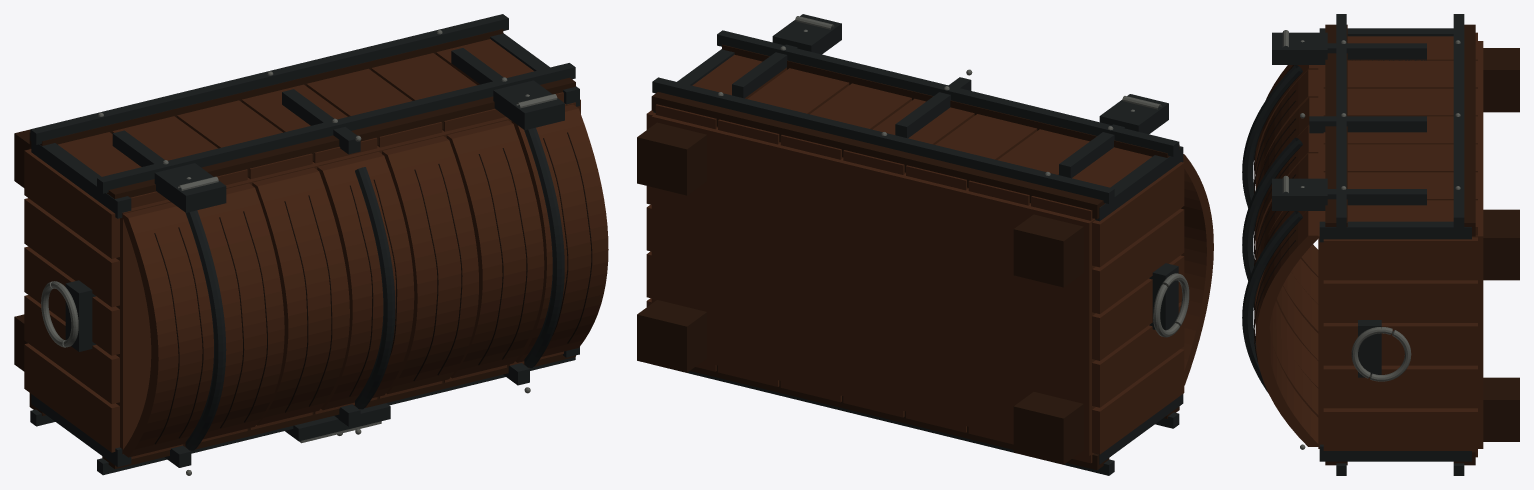
File: SM_GateWardenChest_1348_v1.obj
3 renders of one model, left to right at view 1: azimuth 30°, elevation 25°; view 2: azimuth 150°, elevation 25°; view 3: azimuth 270°, elevation 25°, orthographic. The views are drawn at different scales.
Parts seen in each view (by area): view 1: Carved_Arched_Oak_Lid_4, Carved_Arched_Oak_Lid_5, Carved_Arched_Oak_Lid_2, Carved_Arched_Oak_Lid_0, Carved_Arched_Oak_Lid_1, Carved_Arched_Oak_Lid_3, Carved_Arched_Oak_Lid_6, Black_Iron_Base_Band_1_0.11, Black_Iron_Base_Band_1_0.322, Dovetailed_Oak_Base, Iron_Arch_Reinforcement_0, Side_Oak_Stave_-1_0 (+23 smaller); view 2: Dovetailed_Oak_Base, Black_Iron_Base_Band_1_0.11, Black_Iron_Base_Band_1_0.322, Lower_Frame_1_0.1, Carved_Arched_Oak_Lid_0, Side_Oak_Stave_-1_0, Side_Oak_Stave_-1_3, Side_Oak_Stave_-1_4, Corner_Leg_-1_-1, Corner_Leg_-1_1, Corner_Leg_1_1, Corner_Leg_1_-1 (+19 smaller); view 3: Side_Oak_Stave_1_0, Side_Oak_Stave_1_3, Side_Oak_Stave_1_4, Side_Oak_Stave_1_1, Carved_Arched_Oak_Lid_6, Iron_Corner_Binding, Side_Oak_Stave_1_2, Dovetailed_Oak_Base, Back_Hinge_Castings, Iron_Arch_Reinforcement_0, Iron_Arch_Reinforcement_0.311, Vertical_Handplaned_Stave_1_4 (+22 smaller).
Boxes of the visible parts, bbox=[...] form: Carved_Arched_Oak_Lid_4: bbox=[382, 136, 478, 394]; Carved_Arched_Oak_Lid_5: bbox=[446, 120, 544, 378]; Carved_Arched_Oak_Lid_2: bbox=[252, 167, 349, 425]; Carved_Arched_Oak_Lid_0: bbox=[123, 202, 213, 457]; Carved_Arched_Oak_Lid_1: bbox=[197, 183, 284, 439]; Carved_Arched_Oak_Lid_3: bbox=[317, 152, 414, 410]; Carved_Arched_Oak_Lid_6: bbox=[511, 104, 608, 362]; Black_Iron_Base_Band_1_0.11: bbox=[30, 14, 508, 144]; Black_Iron_Base_Band_1_0.322: bbox=[97, 63, 575, 193]; Dovetailed_Oak_Base: bbox=[29, 102, 575, 454]; Iron_Arch_Reinforcement_0: bbox=[282, 89, 395, 426]; Side_Oak_Stave_-1_0: bbox=[24, 343, 119, 452]; Dovetailed_Oak_Base: bbox=[651, 114, 1095, 455]; Black_Iron_Base_Band_1_0.11: bbox=[652, 77, 1114, 203]; Black_Iron_Base_Band_1_0.322: bbox=[717, 30, 1179, 156]; Lower_Frame_1_0.1: bbox=[651, 92, 1105, 219]; Carved_Arched_Oak_Lid_0: bbox=[1181, 154, 1213, 385]; Side_Oak_Stave_-1_0: bbox=[1092, 349, 1184, 454]; Side_Oak_Stave_-1_3: bbox=[1092, 208, 1184, 313]; Side_Oak_Stave_-1_4: bbox=[1092, 162, 1184, 267]; Corner_Leg_-1_-1: bbox=[1013, 392, 1083, 464]; Corner_Leg_-1_1: bbox=[1013, 214, 1083, 287]; Corner_Leg_1_1: bbox=[637, 122, 706, 195]; Corner_Leg_1_-1: bbox=[637, 300, 706, 372]; Side_Oak_Stave_1_0: bbox=[1323, 408, 1477, 450]; Side_Oak_Stave_1_3: bbox=[1323, 280, 1477, 322]; Side_Oak_Stave_1_4: bbox=[1323, 237, 1477, 280]; Side_Oak_Stave_1_1: bbox=[1323, 365, 1477, 408]; Carved_Arched_Oak_Lid_6: bbox=[1256, 211, 1318, 446]; Iron_Corner_Binding: bbox=[1319, 28, 1471, 461]; Side_Oak_Stave_1_2: bbox=[1323, 323, 1477, 365]; Dovetailed_Oak_Base: bbox=[1318, 41, 1483, 448]; Back_Hinge_Castings: bbox=[1272, 32, 1327, 210]; Iron_Arch_Reinforcement_0: bbox=[1242, 116, 1426, 280]; Iron_Arch_Reinforcement_0.311: bbox=[1242, 189, 1426, 392]; Vertical_Handplaned_Stave_1_4: bbox=[1323, 144, 1477, 172].
Bounding box in the file's own units: 0.944 × 0.5626 × 0.5005.
